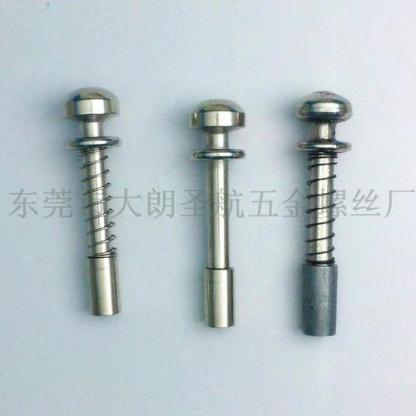FOD: (74, 143, 119, 260), (302, 148, 341, 268)
